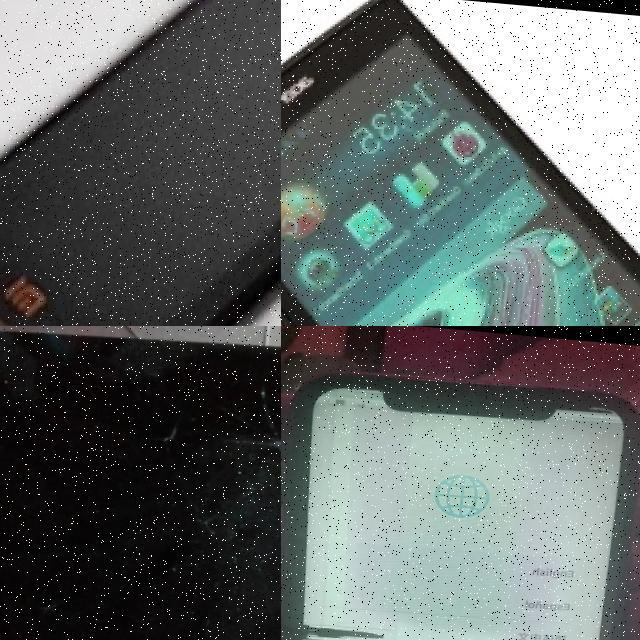dead pixel: (297, 601, 417, 640)
screen crack: (27, 326, 281, 640)
